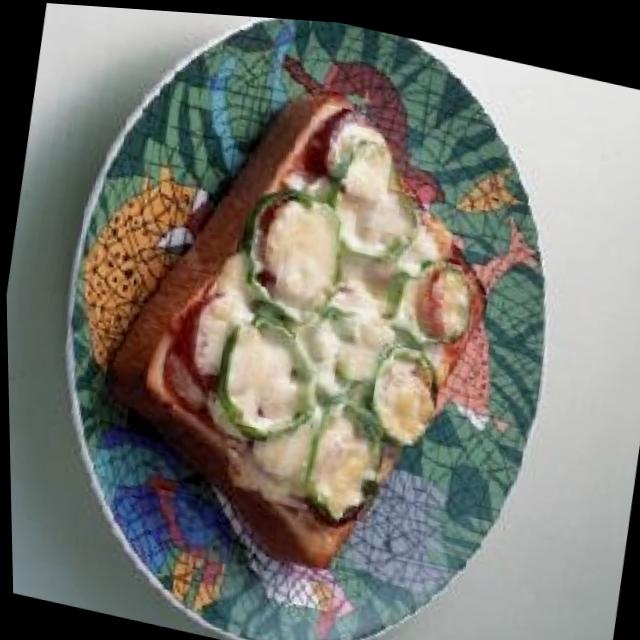面包点心: (10, 1, 585, 640)
